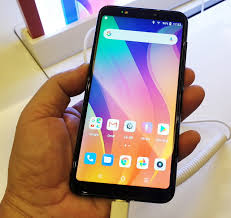vsmart: (69, 3, 190, 206)
